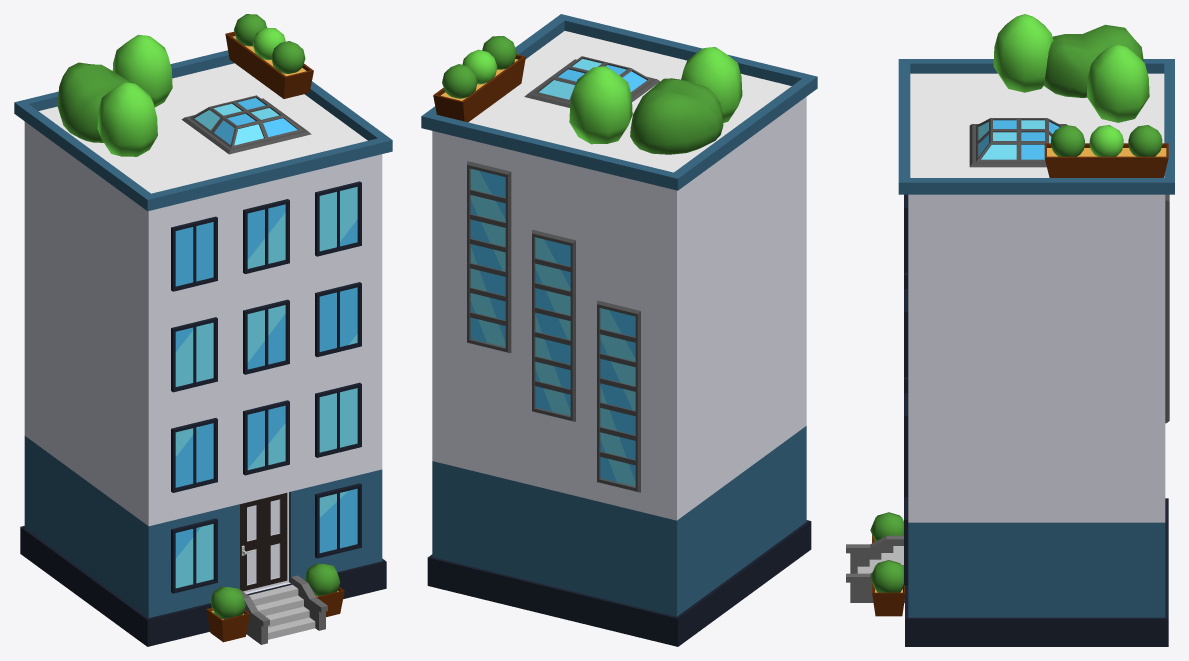
Rendered from office_building_4x12_less_trees.glb.
The picture shows the model from 3 angles, left to right: view 1: azimuth 30°, elevation 25°; view 2: azimuth 150°, elevation 25°; view 3: azimuth 270°, elevation 25°; orthographic projection. The views are drawn at different scales.
Visible parts, largest first — view 1: Prop_Motel_01, Prop_Plant_01, Prop_RoofWindow_07, Prop_Bush_01, Prop_Bush_02, Prop_Bush_01.001, Prop_Plant_03.001, Prop_Plant_03; view 2: Prop_Motel_01, Prop_RoofWindow_04, Prop_RoofWindow_04.002, Prop_RoofWindow_04.001, Prop_Bush_02, Prop_Plant_01, Prop_Bush_01.001, Prop_Bush_01, Prop_RoofWindow_07; view 3: Prop_Motel_01, Prop_Plant_01, Prop_RoofWindow_07, Prop_Bush_01.001, Prop_Bush_02, Prop_Bush_01, Prop_Plant_03, Prop_RoofWindow_04, Prop_Plant_03.001.
Boxes of the visible parts, x1,y1,x2,y2 form: Prop_Motel_01: (14, 50, 392, 646); Prop_Plant_01: (225, 14, 313, 98); Prop_RoofWindow_07: (181, 95, 311, 154); Prop_Bush_01: (97, 82, 157, 156); Prop_Bush_02: (57, 62, 131, 142); Prop_Bush_01.001: (112, 34, 172, 107); Prop_Plant_03.001: (206, 586, 249, 642); Prop_Plant_03: (304, 563, 344, 616); Prop_Motel_01: (421, 14, 817, 646); Prop_RoofWindow_04: (467, 161, 511, 353); Prop_RoofWindow_04.002: (597, 300, 640, 492); Prop_RoofWindow_04.001: (532, 230, 575, 421); Prop_Bush_02: (630, 78, 723, 154); Prop_Plant_01: (433, 36, 525, 122); Prop_Bush_01.001: (569, 66, 632, 144); Prop_Bush_01: (681, 47, 742, 122); Prop_RoofWindow_07: (524, 56, 659, 107); Prop_Motel_01: (846, 59, 1174, 646); Prop_Plant_01: (1044, 125, 1168, 177); Prop_RoofWindow_07: (969, 118, 1067, 167); Prop_Bush_01.001: (1087, 44, 1149, 122); Prop_Bush_02: (1043, 24, 1143, 97); Prop_Bush_01: (993, 14, 1053, 92); Prop_Plant_03: (870, 560, 904, 616); Prop_RoofWindow_04: (1165, 194, 1169, 379); Prop_Plant_03.001: (870, 512, 903, 543).
Size of the model in its own units: 5.93 by 11.84 by 6.65.
Materials: 1 (1 with a texture image).
